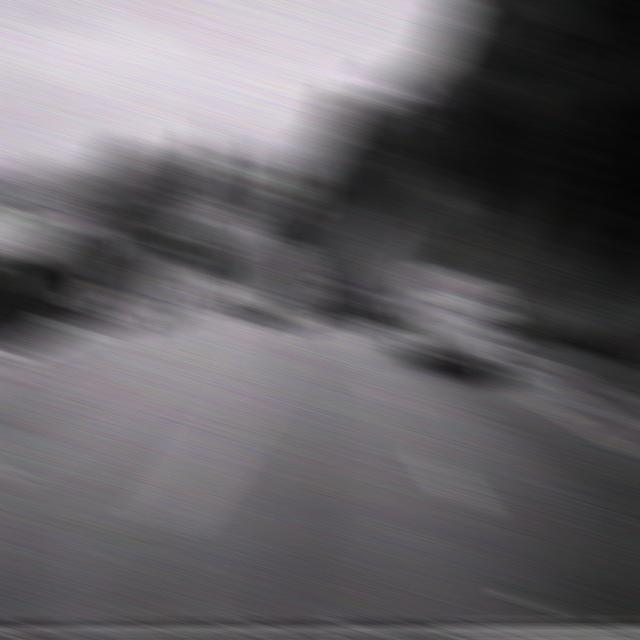pedestrianCrossing: (332, 242, 366, 275)
